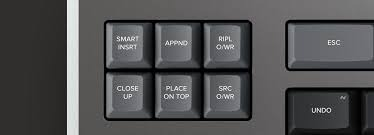keyboard: (80, 3, 373, 133)
